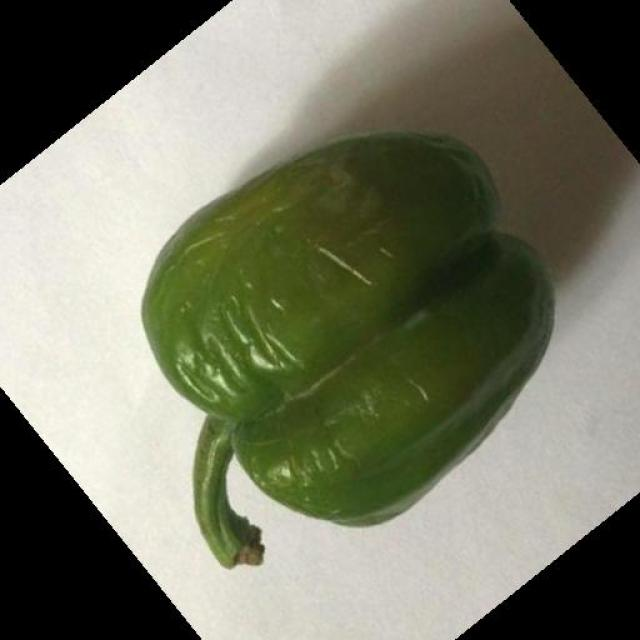Stale_Capsicum: (121, 159, 533, 603)
